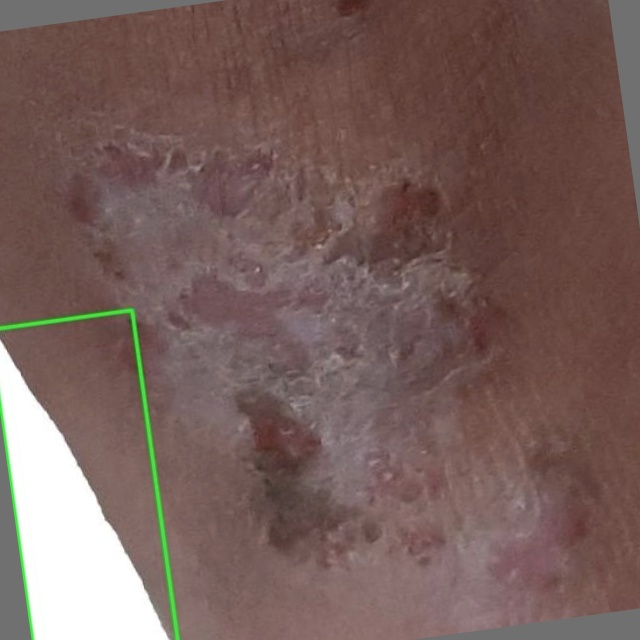Contact Dermatitis: (0, 310, 177, 639)
